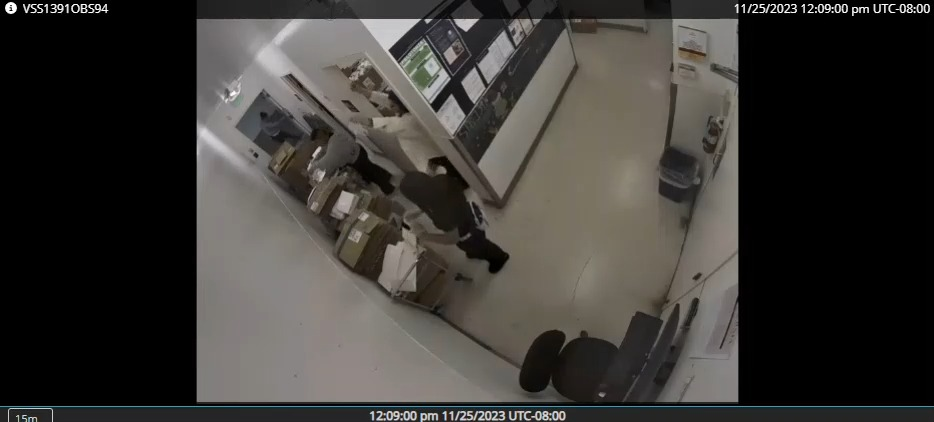gloves: (399, 205, 425, 246)
